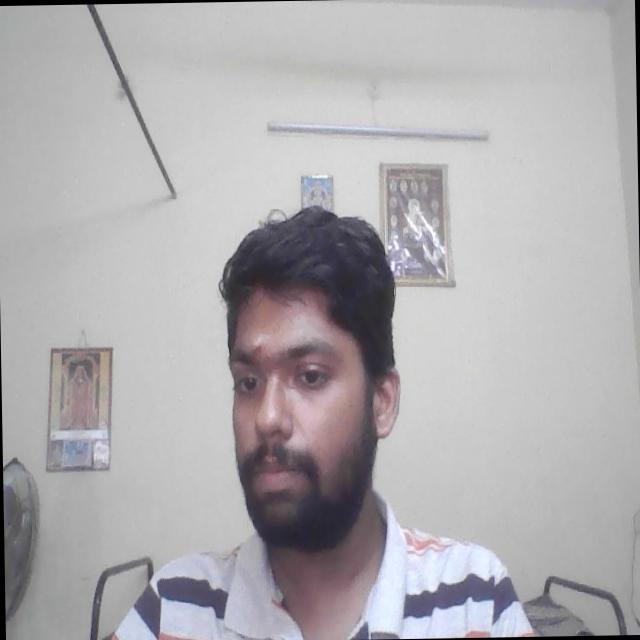Focused: (226, 306, 366, 513)
